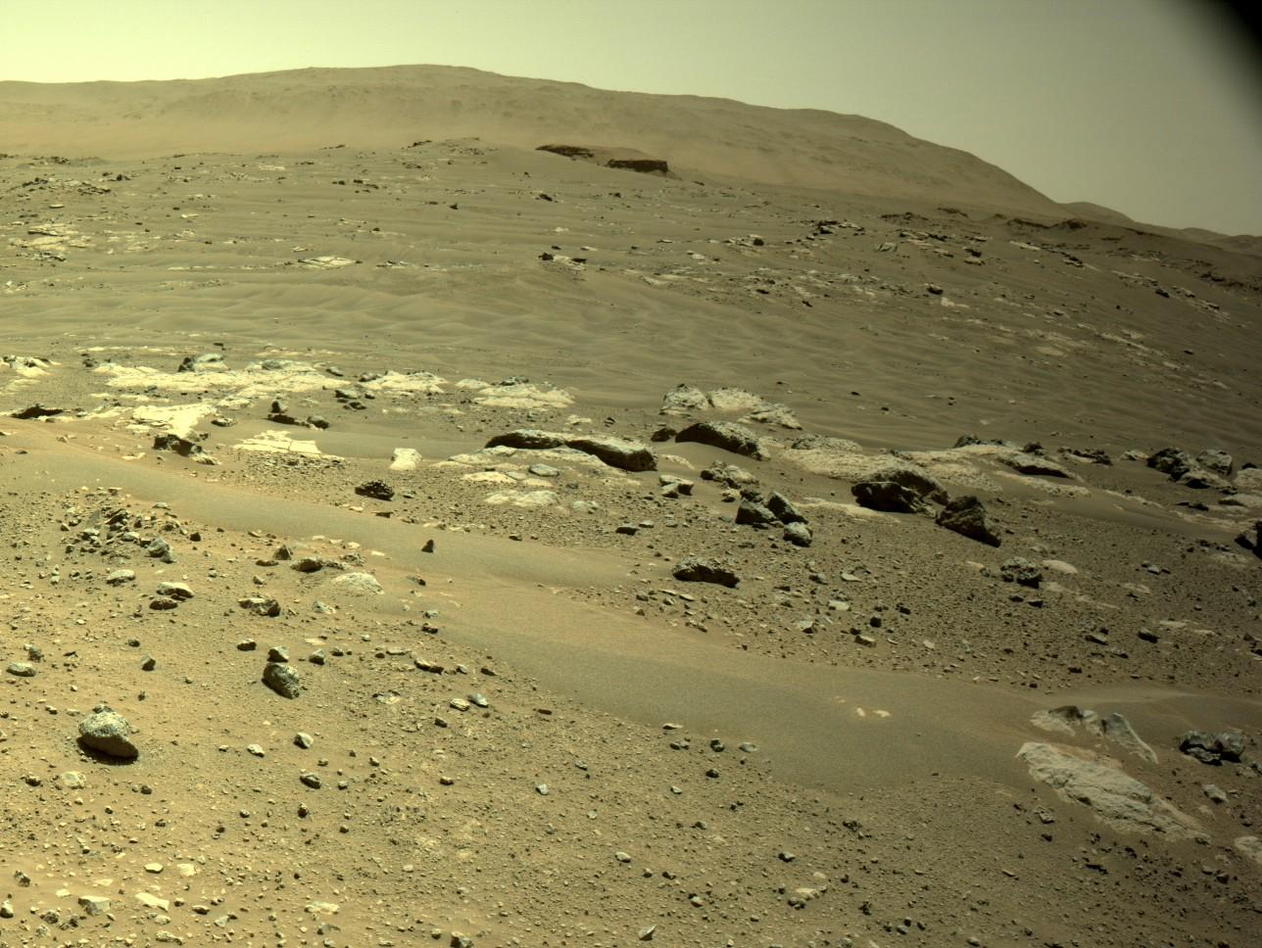bedrock: (2, 348, 579, 441), (324, 455, 673, 514), (820, 431, 1113, 496), (1166, 457, 1257, 564), (490, 523, 655, 565), (866, 514, 999, 556), (532, 131, 666, 171), (716, 515, 818, 551), (154, 443, 266, 467), (411, 500, 530, 517), (107, 356, 136, 362), (1256, 438, 1261, 458), (808, 420, 813, 423), (1005, 553, 1007, 557), (581, 405, 586, 406)
big_rock: (536, 580, 625, 602), (1257, 469, 1260, 514), (632, 575, 640, 578)
sand: (9, 424, 1256, 800), (1, 146, 1259, 441), (1259, 680, 1261, 685), (1255, 688, 1256, 689)
soil: (2, 490, 1261, 945), (662, 183, 1257, 393), (657, 565, 1258, 689), (7, 151, 429, 264), (1257, 687, 1258, 688)
